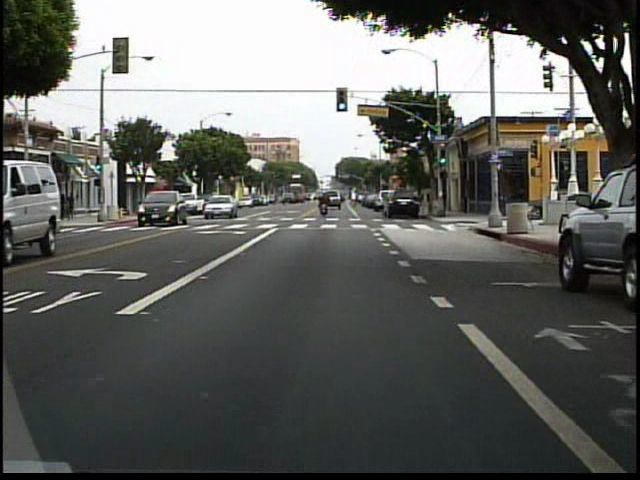person: (57, 192, 72, 222), (318, 189, 331, 219), (68, 191, 80, 222)
